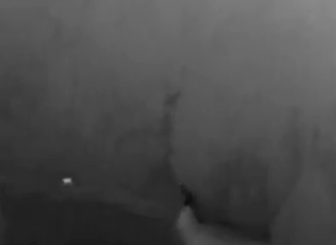Target: (63, 178, 71, 182)
